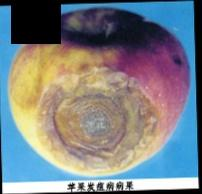rotten apple: (7, 7, 193, 178)
